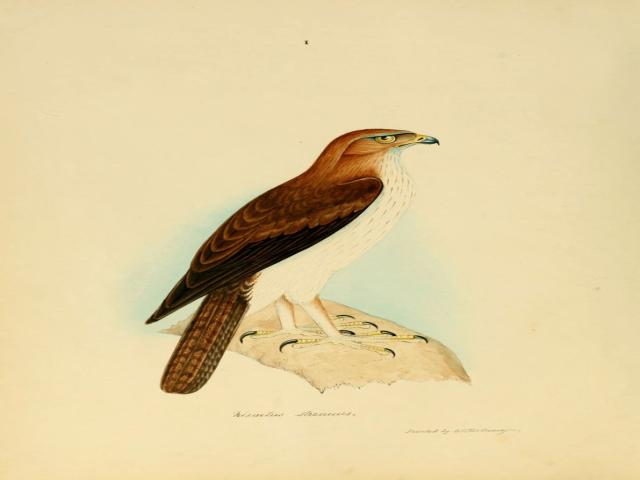Bird: (139, 126, 445, 396)
